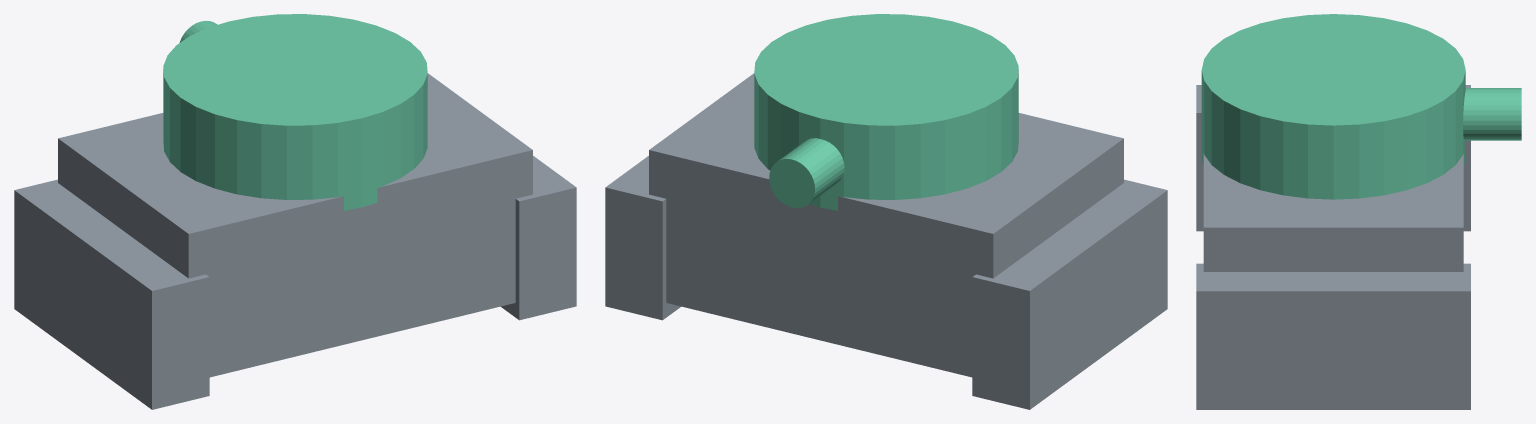
The model's file is SM_Coalition_CO_KamakiriWalker_Blockout.fbx.
The picture shows the model from 3 angles, left to right: view 1: azimuth 30°, elevation 25°; view 2: azimuth 150°, elevation 25°; view 3: azimuth 270°, elevation 25°; orthographic projection.
Visible parts, largest first — view 1: Chassis, Turret, Tracks_L, Tracks_R; view 2: Chassis, Turret, Tracks_L, Tracks_R, GunBarrel; view 3: Turret, Tracks_R, Chassis, GunBarrel, Tracks_L.
Part boxes in pixels (x1,y1,x2,y2): Chassis: [58, 73, 532, 377]; Turret: [163, 14, 427, 210]; Tracks_L: [14, 179, 209, 409]; Tracks_R: [501, 156, 576, 320]; Chassis: [649, 73, 1123, 377]; Turret: [754, 14, 1018, 210]; Tracks_L: [972, 179, 1167, 409]; Tracks_R: [605, 156, 680, 320]; GunBarrel: [769, 138, 844, 207]; Turret: [1201, 14, 1465, 199]; Tracks_R: [1196, 263, 1470, 409]; Chassis: [1203, 153, 1463, 271]; GunBarrel: [1463, 88, 1521, 140]; Tracks_L: [1196, 85, 1470, 231].
Size of the model in its own units: 388 by 208 by 259.
